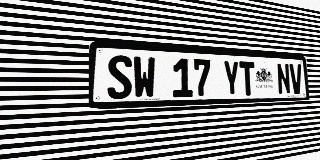1: (172, 58, 193, 98)
7: (192, 59, 212, 97)
N: (276, 63, 291, 95)
S: (107, 55, 132, 99)
T: (239, 61, 256, 96)
V: (289, 64, 303, 94)
W: (133, 56, 156, 99)
Y: (223, 60, 240, 96)
